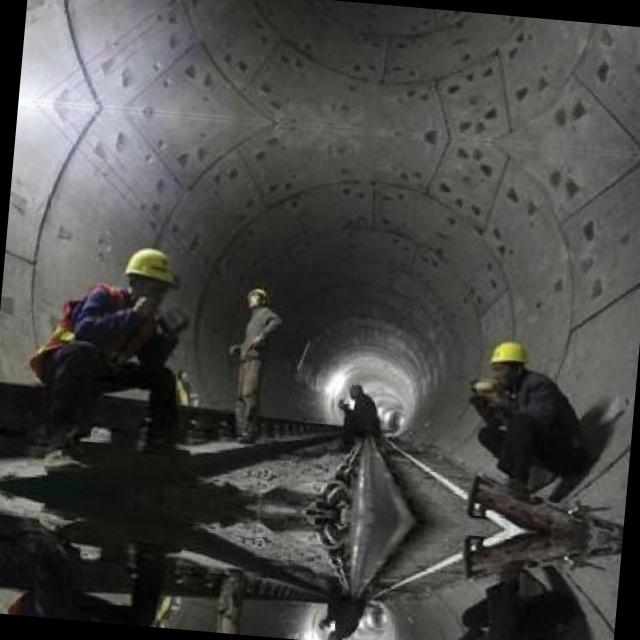helmet: (116, 240, 180, 308), (484, 332, 534, 388), (240, 282, 278, 314)
